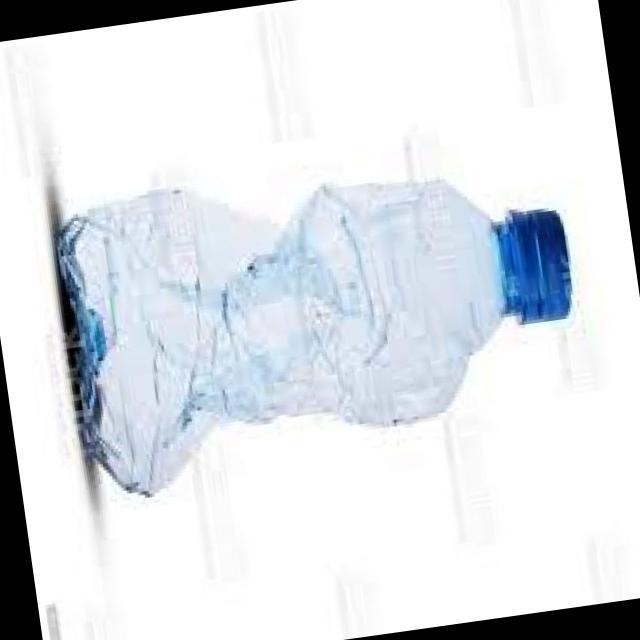defected: (43, 113, 617, 512)
